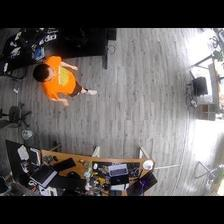normal: (31, 56, 96, 105)
